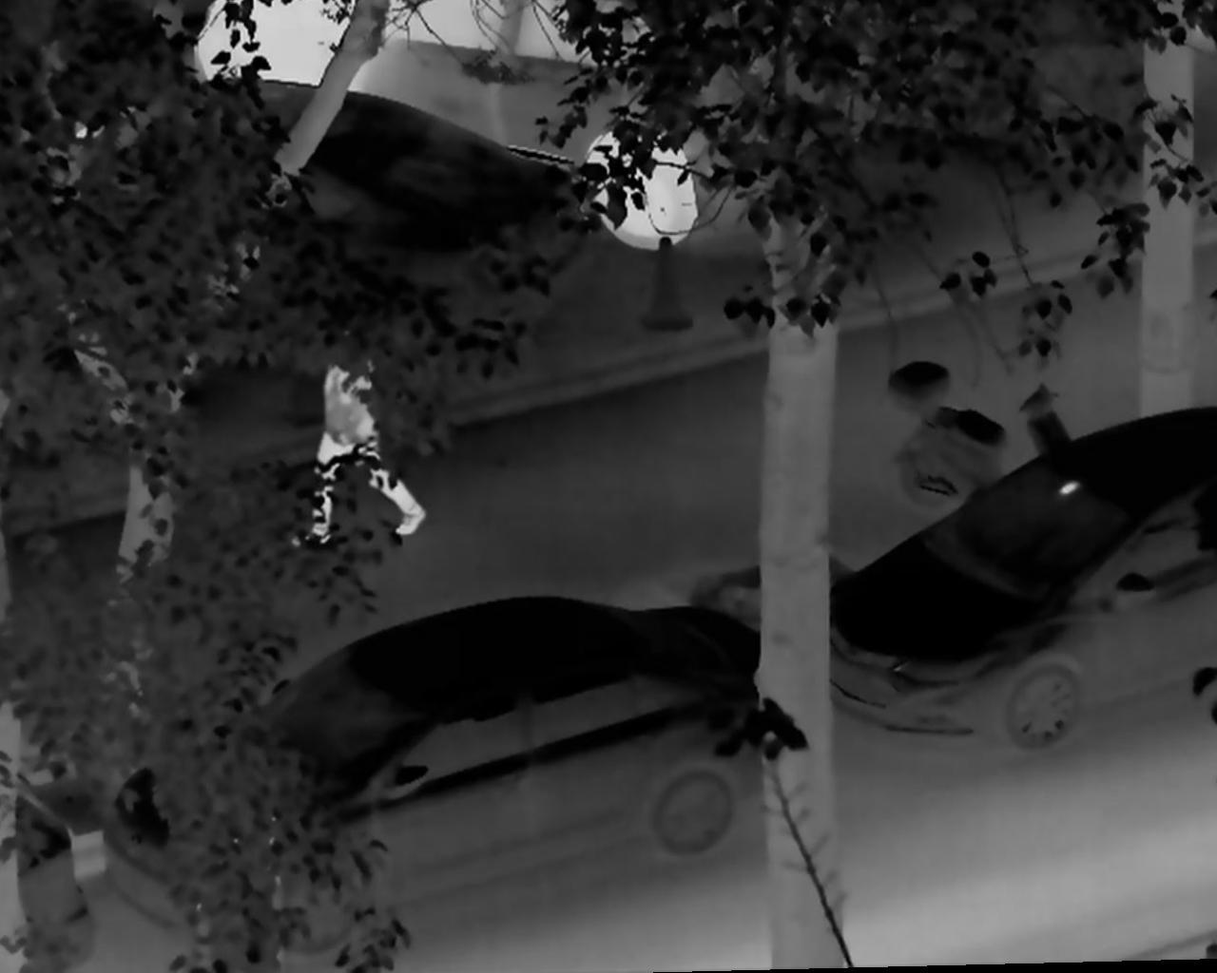person: (289, 341, 426, 555)
